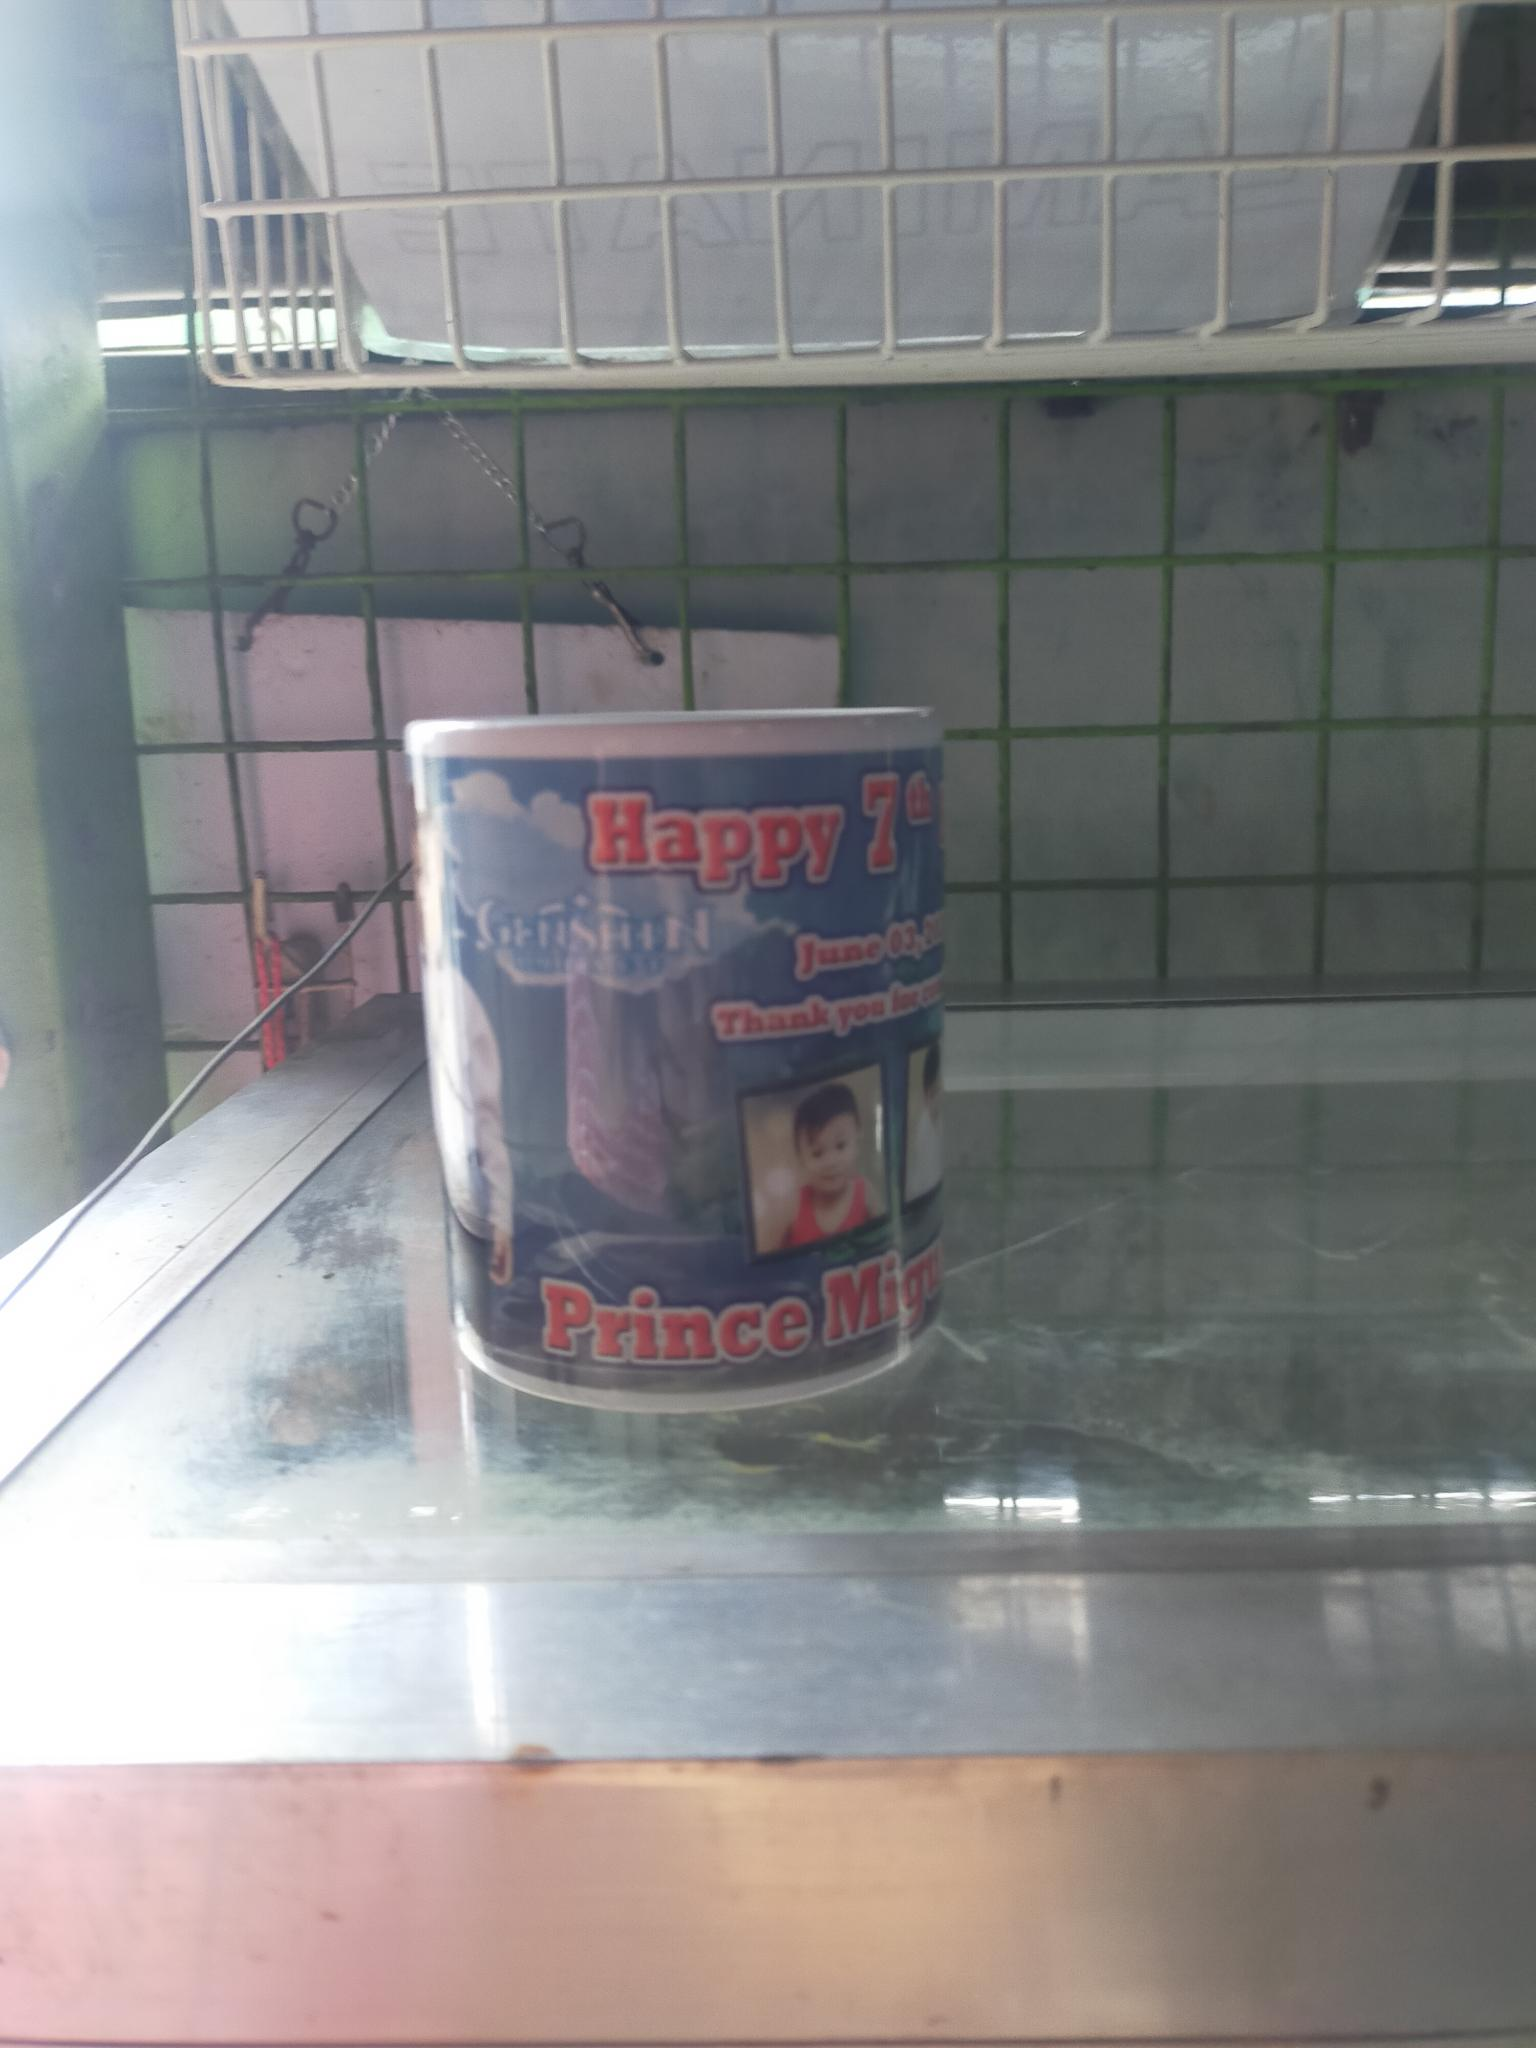Coffee Mug: (405, 706, 957, 1413)
